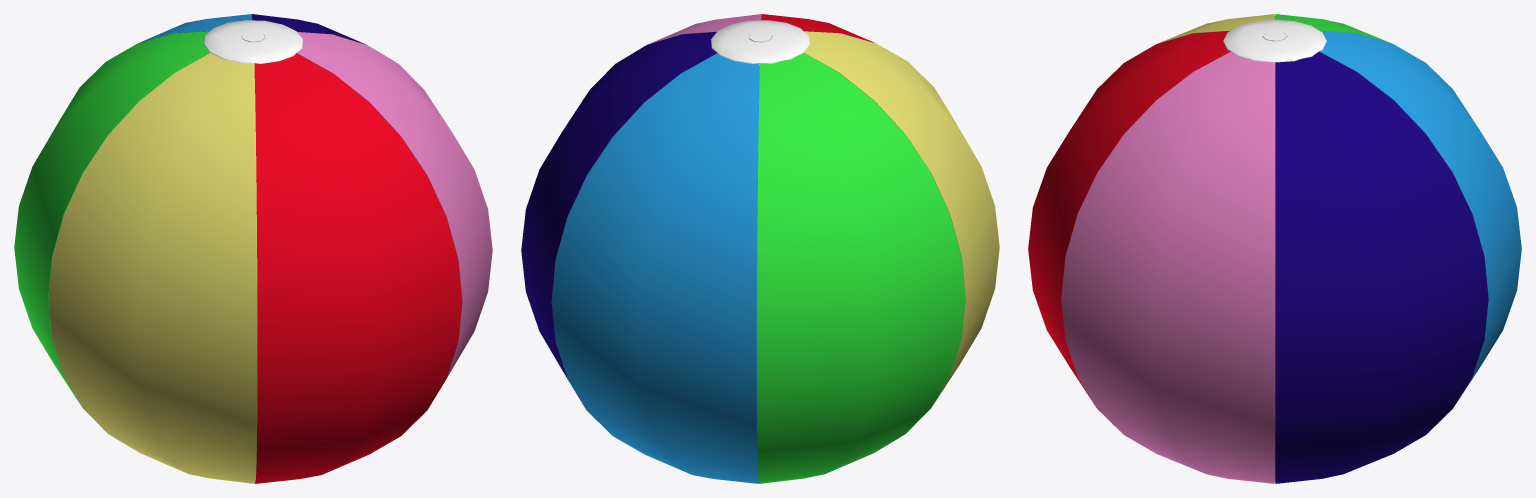
File: top.fbx
The picture shows the model from 3 angles, left to right: view 1: azimuth 30°, elevation 25°; view 2: azimuth 150°, elevation 25°; view 3: azimuth 270°, elevation 25°; orthographic projection.
Parts seen in each view (by area): view 1: TOP; view 2: TOP; view 3: TOP.
Part boxes in pixels (box(x1,y1,x2,y2)): TOP: box(14, 14, 492, 483); TOP: box(521, 14, 999, 483); TOP: box(1028, 14, 1521, 483).
Size of the model in its own units: 116 by 114 by 120.
